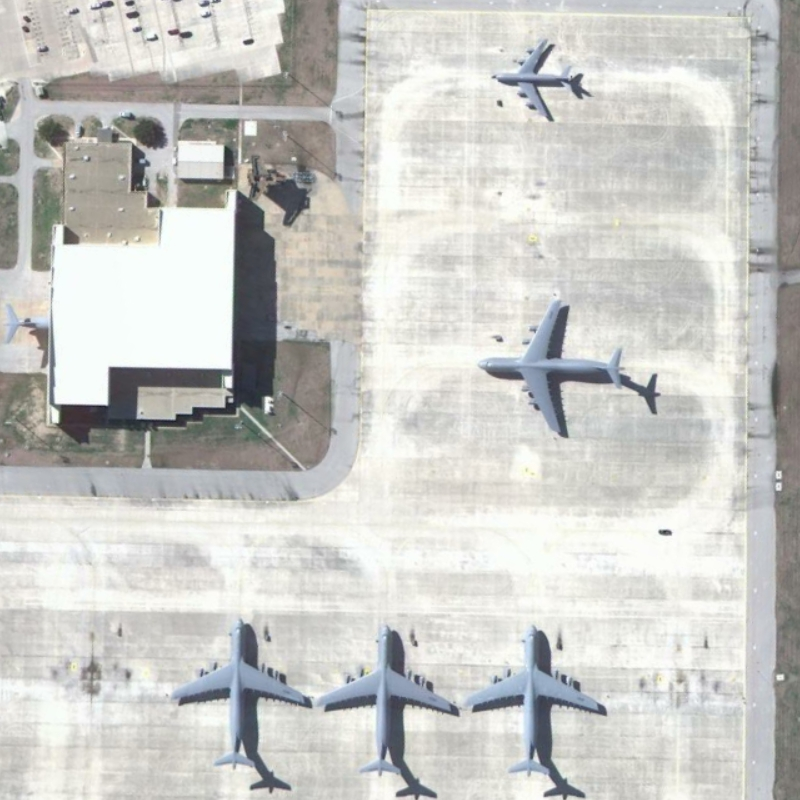A14: (490, 34, 593, 124)
A4: (471, 292, 640, 440), (461, 620, 614, 782), (165, 607, 313, 774), (310, 616, 460, 779)
